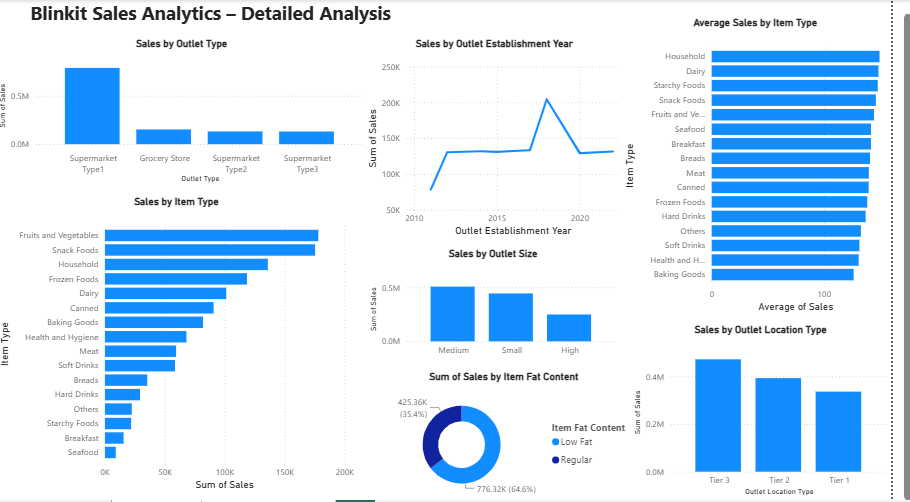

The page's visual inventory and layout, read from the dashboard file:
{"tool":"powerbi","page":{"name":"Detailed Analysis","canvas":[1280,720],"ordinal":1},"visuals":[{"type":"clusteredColumnChart","title":"Sales by Outlet Type","fields":{"Category":["blinkit_analysis blinkit_sales.Outlet Type"],"Y":["Sum(blinkit_analysis blinkit_sales.Sales)"]},"box":[0,60,533.3,211.7],"z":0},{"type":"clusteredBarChart","title":" Sales by Item Type","fields":{"Category":["blinkit_analysis blinkit_sales.Item Type"],"Y":["Sum(blinkit_analysis blinkit_sales.Sales)"]},"box":[0,285,518.3,425],"z":1000},{"type":"lineChart","title":"Sales by Outlet Establishment Year","fields":{"Category":["blinkit_analysis blinkit_sales.Outlet Establishment Year"],"Y":["Sum(blinkit_analysis blinkit_sales.Sales)"]},"box":[525,60,375,288.3],"z":2000},{"type":"donutChart","fields":{"Category":["blinkit_analysis blinkit_sales.Item Fat Content"],"Y":["Sum(blinkit_analysis blinkit_sales.Sales)"]},"box":[533.3,535,388.3,183.3],"z":3000},{"type":"clusteredBarChart","title":"Average Sales by Item Type","fields":{"Category":["blinkit_analysis blinkit_sales.Item Type"],"Y":["Avg(blinkit_analysis blinkit_sales.Sales)"]},"box":[893.3,0,386.7,426.7],"z":4000},{"type":"clusteredColumnChart","title":" Sales by Outlet Location Type","fields":{"Category":["blinkit_analysis blinkit_sales.Outlet Location Type"],"Y":["Sum(blinkit_analysis blinkit_sales.Sales)"]},"box":[906.7,468.3,373.3,250],"z":5000},{"type":"clusteredColumnChart","title":" Sales by Outlet Size","fields":{"Category":["blinkit_analysis blinkit_sales.Outlet Size"],"Y":["Sum(blinkit_analysis blinkit_sales.Sales)"]},"box":[530,360,363.3,163.3],"z":6000},{"type":"textbox","box":[13.3,0,590,60],"z":7000}]}

Visuals, with their boxes in screenshot pixels (x1, y1, x2, y2), scaled from the page's 1280x720 canvas onto the 910x502 screenshot:
"Sales by Outlet Type" clusteredColumnChart: 0,42,379,189
" Sales by Item Type" clusteredBarChart: 0,199,368,495
"Sales by Outlet Establishment Year" lineChart: 373,42,640,243
donutChart - blinkit_analysis blinkit_sales.Item Fat Content x Sum(blinkit_analysis blinkit_sales.Sales): 379,373,655,501
"Average Sales by Item Type" clusteredBarChart: 635,0,909,298
" Sales by Outlet Location Type" clusteredColumnChart: 645,327,909,501
" Sales by Outlet Size" clusteredColumnChart: 377,251,635,365
textbox: 9,0,429,42
